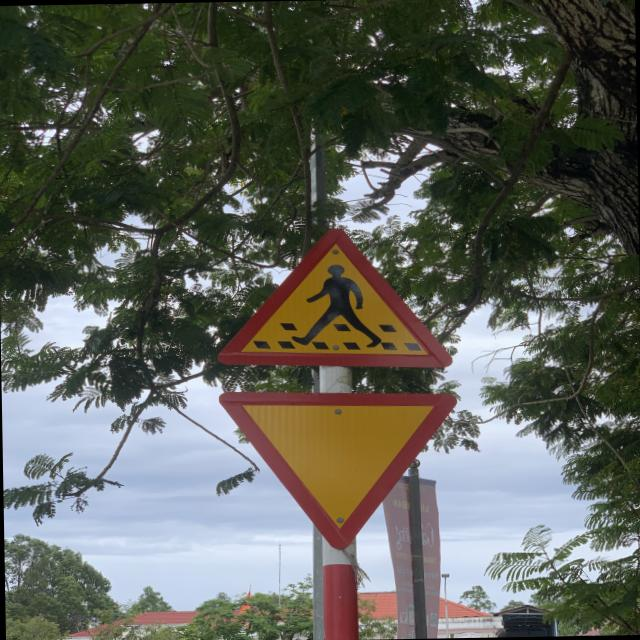Duong_Nguoi_Di_Bo_Sang_Ngang: (214, 225, 452, 370)
Gioi_Han_Toc_Do_25: (221, 388, 454, 546)
